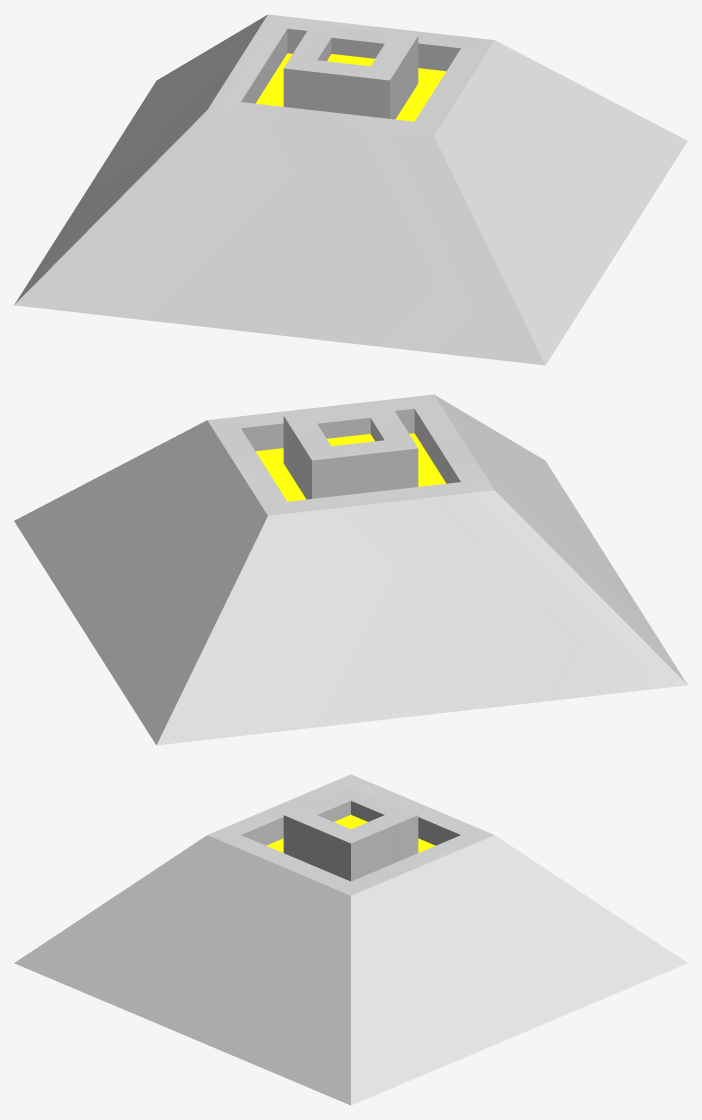
The model's file is scifiPickupAmmoBase.glb.
3 renders of one model, top to bottom at view 1: azimuth 30°, elevation 25°; view 2: azimuth 150°, elevation 25°; view 3: azimuth 270°, elevation 25°, orthographic. The views are drawn at different scales.
Visible parts, largest first — view 1: scifiAmmoBase; view 2: scifiAmmoBase; view 3: scifiAmmoBase.
Boxes of the visible parts, left/top/right/bottom form: scifiAmmoBase: left=14, top=14, right=687, bottom=365; scifiAmmoBase: left=14, top=394, right=687, bottom=745; scifiAmmoBase: left=14, top=774, right=687, bottom=1105.
Bounding box in the file's own units: 0.5791 × 0.1405 × 0.5791.
Materials: 2 (1 with a texture image).
